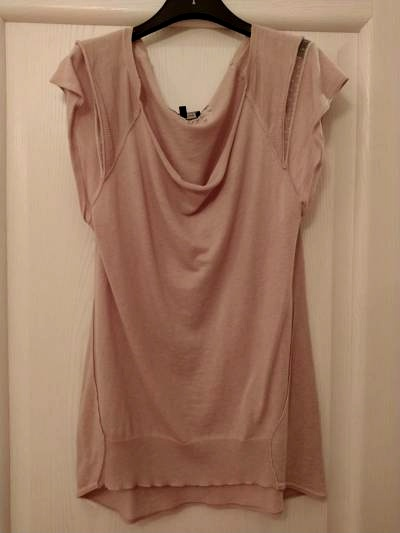Dress: (34, 14, 343, 516)
